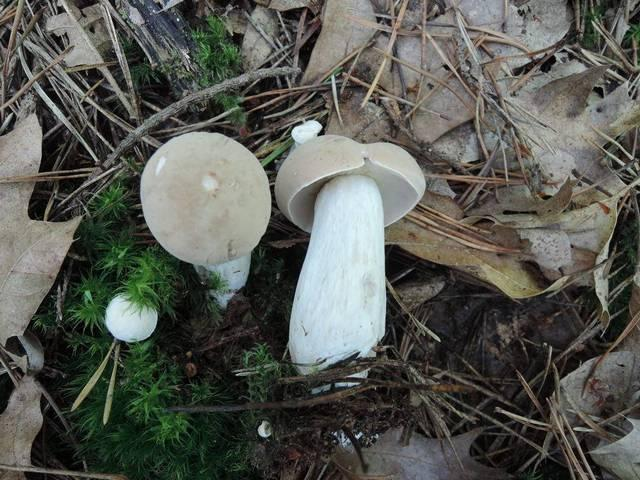edible_mushroom: (273, 130, 426, 391), (138, 130, 272, 311)
